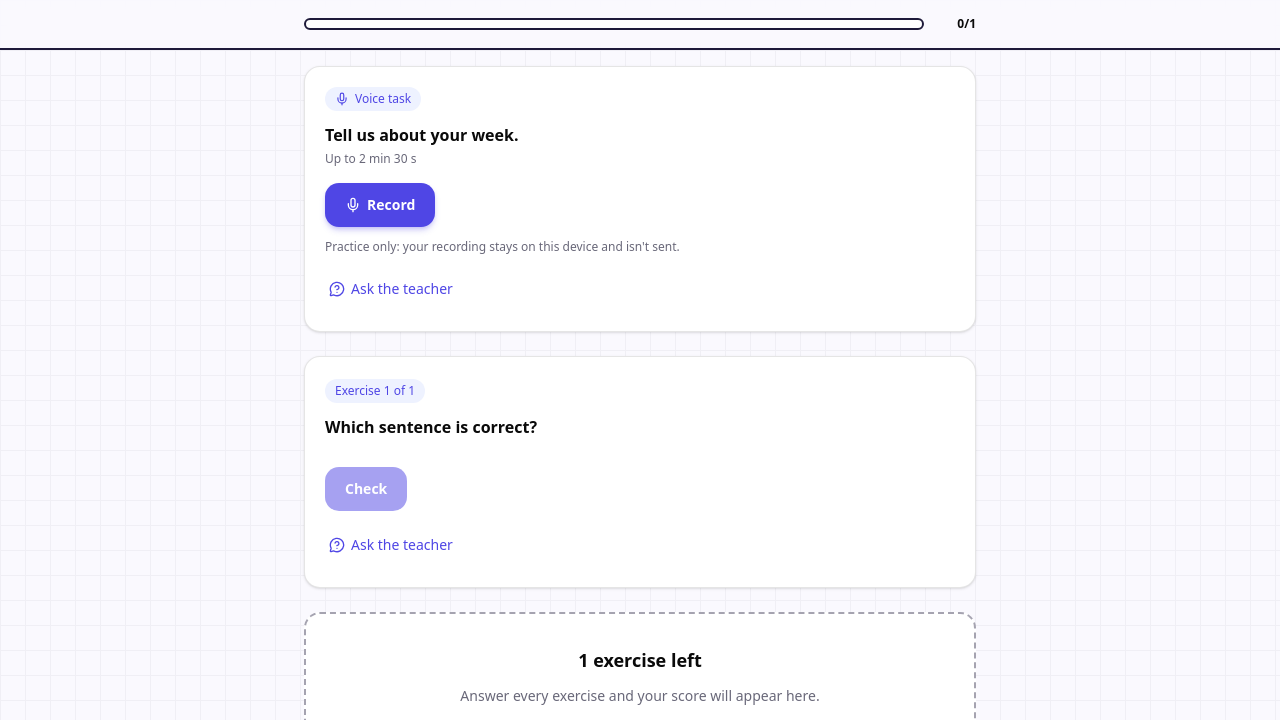
it: LessonPlayer — Ask the teacher (TCH-006) › a voice task is asked about with no answer to include
This screenshot has width=1280, height=720.
What coordinates should you click on to do the following:
click the button "Ask the teacher" below "Up to"
I would click on:
 (391, 289)
Its box is [325,267,457,311].
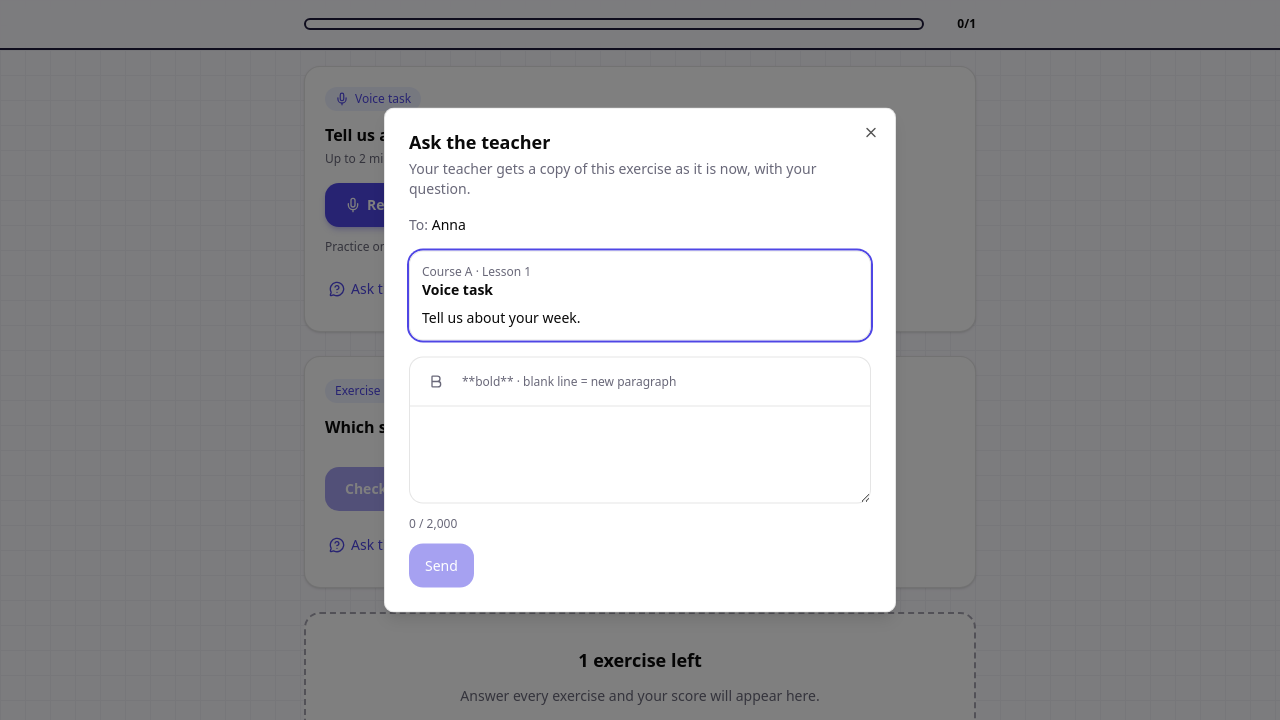
Result: the dialog shows "Voice task" at [422,280,493,298]
Result: the dialog shows "Tell us about your week." at [422,308,581,326]
